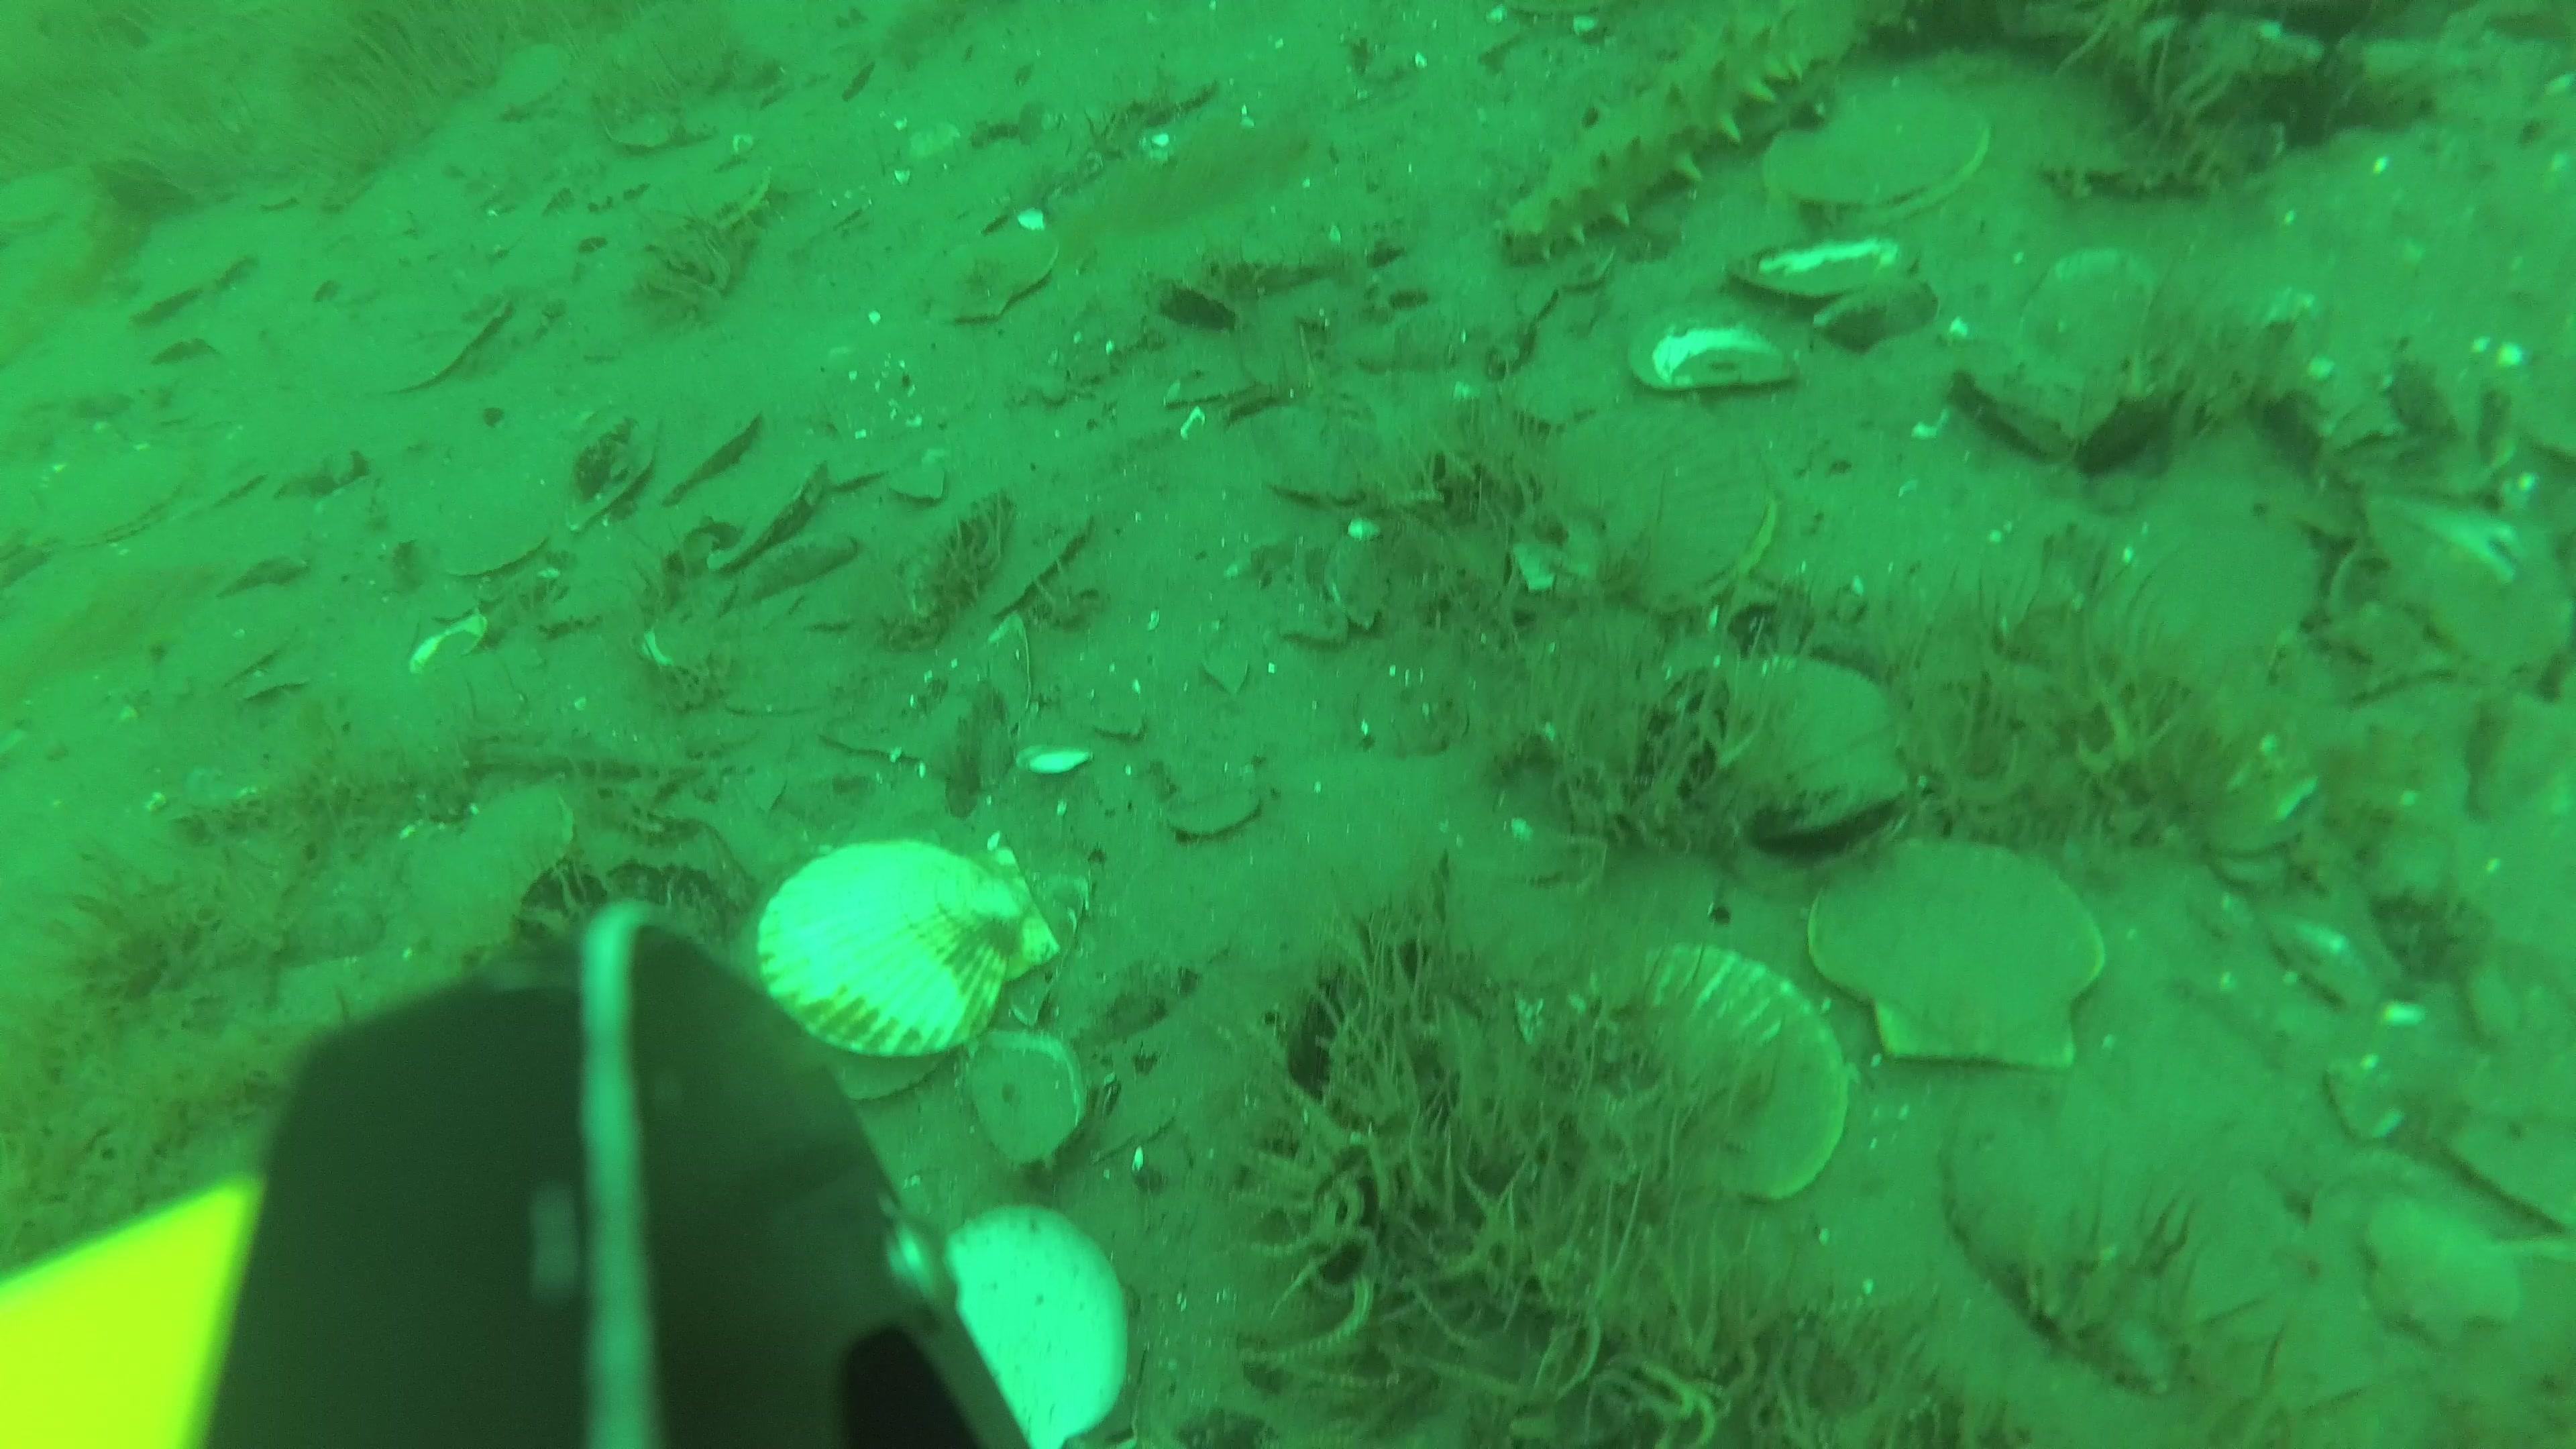holothurian: (1500, 16, 1831, 272)
scallop: (759, 837, 1058, 1113), (1803, 832, 2116, 1074), (1550, 954, 1851, 1205), (1541, 403, 1775, 612), (1675, 656, 1916, 856), (948, 1208, 1136, 1447), (2093, 487, 2316, 686), (1764, 99, 1994, 234), (2357, 1189, 2526, 1359), (44, 448, 196, 552), (922, 223, 1065, 327), (1169, 789, 1272, 855)
